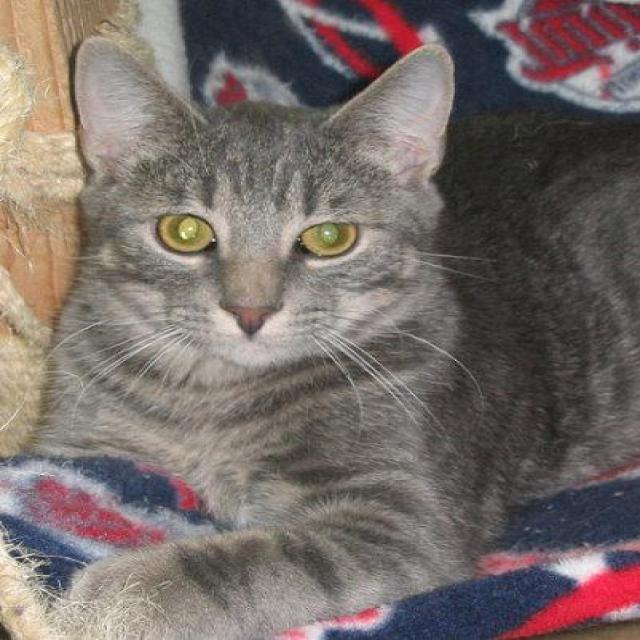Cats: (0, 29, 638, 638)
